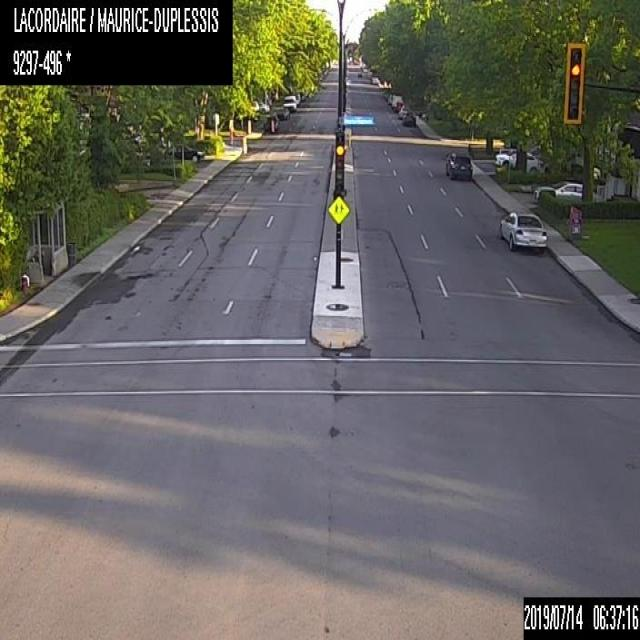construction: (241, 136, 246, 153), (246, 119, 252, 133), (228, 128, 233, 144), (270, 118, 274, 132)
vehicle: (498, 210, 548, 250), (532, 180, 600, 201), (496, 148, 541, 169), (444, 149, 472, 180), (166, 143, 204, 162), (508, 151, 542, 171), (261, 113, 277, 132), (402, 110, 416, 126), (282, 94, 296, 110), (392, 94, 404, 110), (275, 106, 289, 118), (257, 102, 269, 114), (397, 106, 408, 118), (386, 93, 395, 104), (250, 100, 258, 110), (294, 92, 300, 104), (370, 76, 377, 84), (356, 70, 362, 76)
